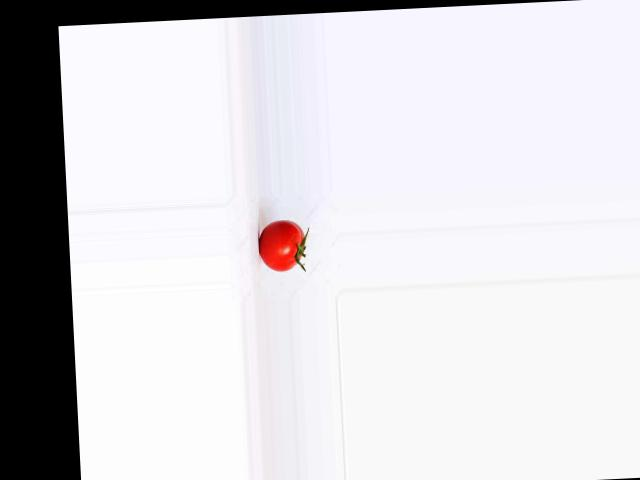tomato: (257, 218, 305, 272)
